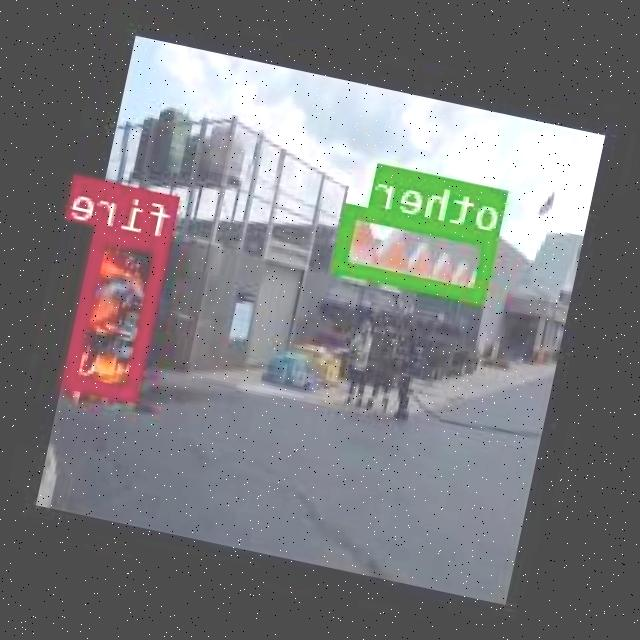fire: (65, 226, 171, 401)
